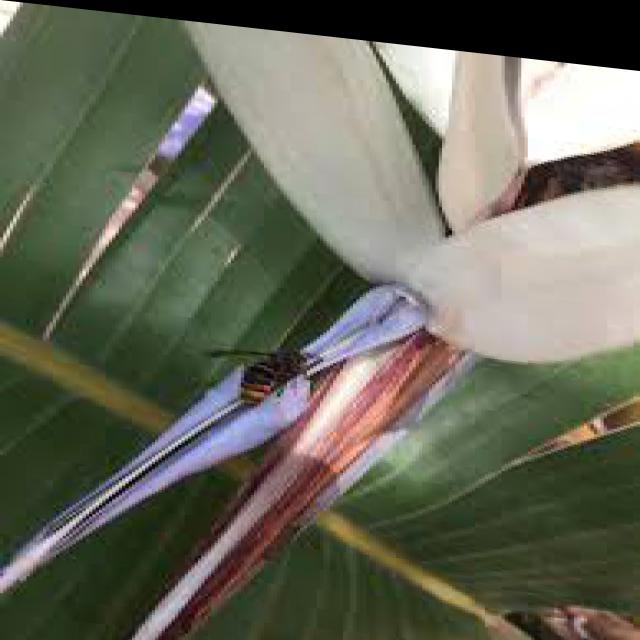Vespa Velutina: (209, 333, 319, 416)
